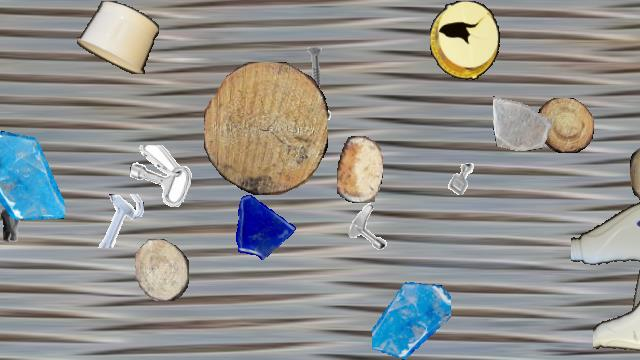glass: (0, 130, 65, 224), (372, 281, 450, 359), (226, 189, 296, 259), (493, 92, 551, 150)
metal: (279, 99, 341, 161), (130, 145, 192, 207), (92, 194, 146, 248), (342, 200, 396, 254), (291, 45, 339, 93), (440, 157, 484, 201), (0, 202, 36, 252)
plastic: (571, 176, 640, 280), (77, 1, 159, 73), (430, 1, 500, 79), (593, 257, 640, 359), (627, 217, 640, 339)
wood: (204, 62, 328, 194), (135, 239, 189, 301), (337, 136, 383, 202), (537, 98, 593, 152), (630, 140, 640, 204)
